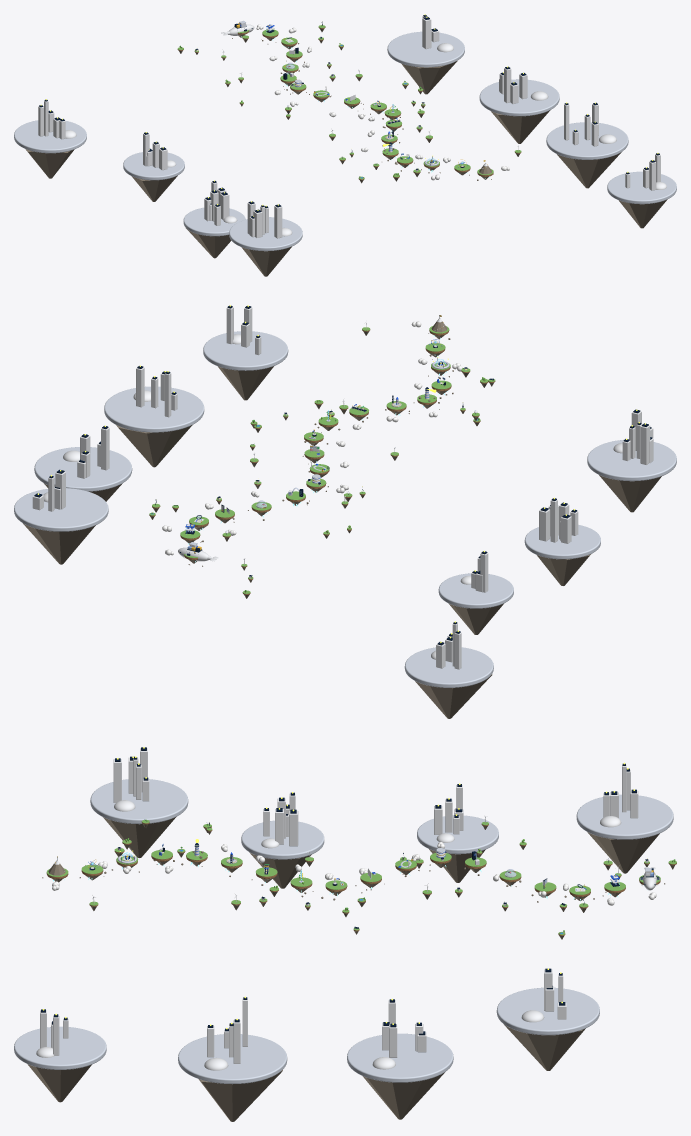
Rendered from archipelago.glb.
The picture shows the model from 3 angles, top to bottom: view 1: azimuth 30°, elevation 25°; view 2: azimuth 150°, elevation 25°; view 3: azimuth 270°, elevation 25°; orthographic projection. The views are drawn at different scales.
Visible parts, largest first — view 1: world_far_5, world_far_3, world_far_1, world_far_6, world_far_0, world_far_7, world_far_4, world_far_2; view 2: world_far_5, world_far_1, world_far_6, world_far_0, world_far_7, world_far_3, world_far_4, world_far_2; view 3: world_far_5, world_far_3, world_far_1, world_far_6, world_far_0, world_far_7, world_far_4, world_far_2.
Part boxes in pixels (x1,y1,x2,y2): world_far_5: [546, 102, 628, 188]; world_far_3: [479, 66, 559, 143]; world_far_1: [387, 14, 464, 94]; world_far_6: [229, 201, 302, 276]; world_far_0: [14, 99, 86, 178]; world_far_7: [607, 153, 676, 228]; world_far_4: [183, 180, 245, 258]; world_far_2: [123, 132, 184, 201]; world_far_5: [104, 365, 204, 467]; world_far_1: [14, 469, 108, 564]; world_far_6: [587, 409, 676, 512]; world_far_0: [404, 621, 493, 718]; world_far_7: [203, 305, 288, 400]; world_far_3: [34, 425, 132, 501]; world_far_4: [524, 497, 600, 585]; world_far_2: [438, 550, 513, 634]; world_far_5: [178, 996, 287, 1121]; world_far_3: [347, 998, 453, 1119]; world_far_1: [496, 968, 599, 1070]; world_far_6: [90, 747, 188, 857]; world_far_0: [576, 762, 673, 873]; world_far_7: [14, 1009, 106, 1102]; world_far_4: [241, 792, 324, 888]; world_far_2: [417, 783, 498, 882].
Size of the model in its own units: 149 by 37.43 by 141.
